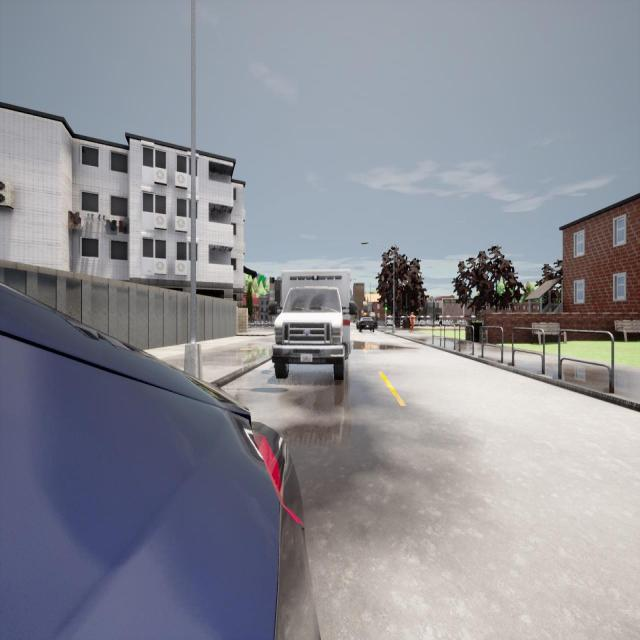Pedestrian: (410, 310, 416, 332)
Vehicle: (0, 286, 319, 640), (267, 268, 357, 379), (357, 316, 375, 332)
traffic_light: (384, 301, 388, 311)
